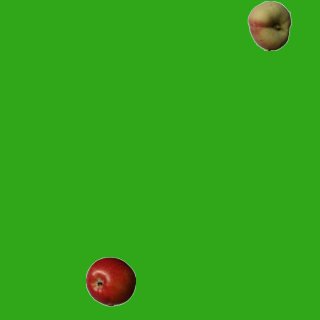Apple Braeburn: (85, 256, 135, 306)
Peach Flat: (244, 0, 294, 50)
